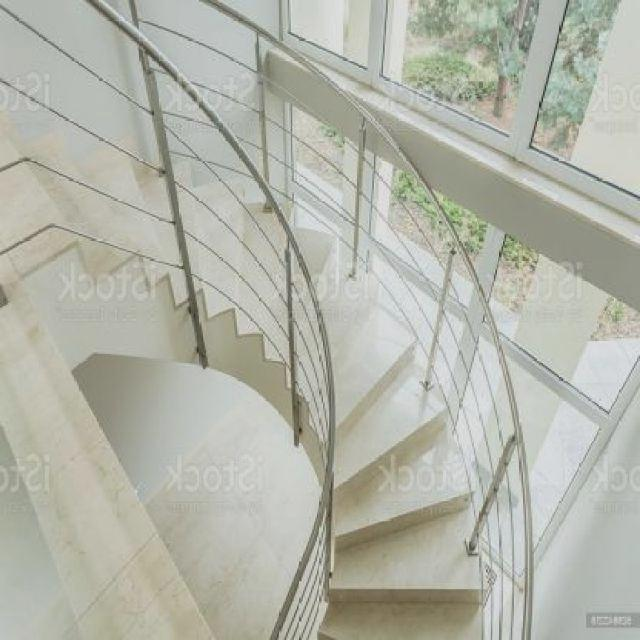stair: (0, 64, 536, 637)
